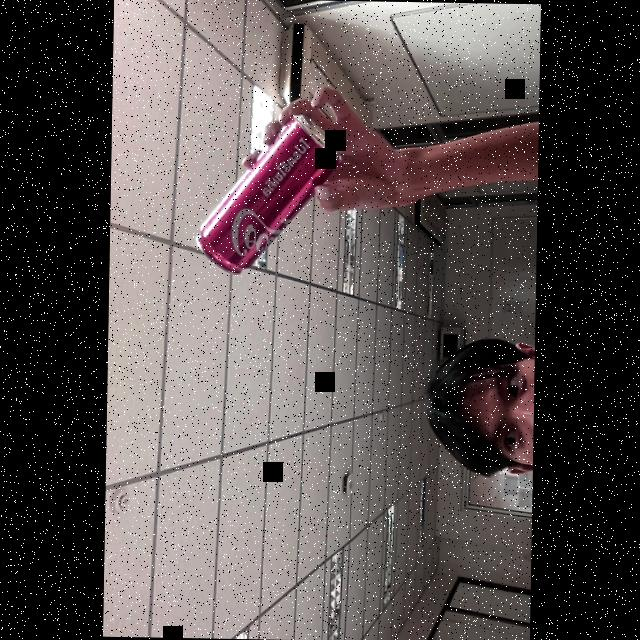plastic_bottle: (189, 111, 343, 276)
